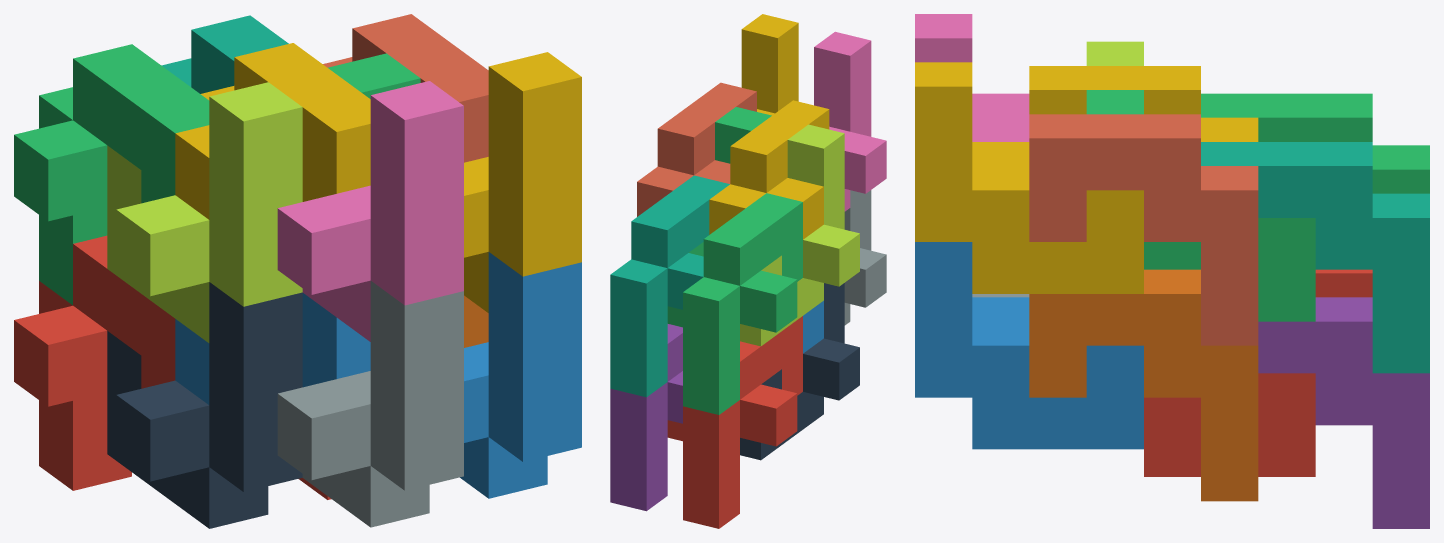
The model's file is tiling.obj.
3 renders of one model, left to right at view 1: azimuth 30°, elevation 25°; view 2: azimuth 150°, elevation 25°; view 3: azimuth 270°, elevation 25°, orthographic. The views are drawn at different scales.
Parts seen in each view (by area): view 1: copy_2_domain_1, copy_2_domain_2, copy_2_domain_3, copy_2_domain_4, copy_1_domain_3, copy_2_domain_6, copy_2_domain_8, copy_1_domain_1, copy_1_domain_4, copy_1_domain_8, copy_1_domain_2, copy_1_domain_7 (+2 smaller); view 2: copy_1_domain_3, copy_1_domain_7, copy_1_domain_1, copy_2_domain_3, copy_1_domain_5, copy_1_domain_4, copy_2_domain_4, copy_1_domain_8, copy_2_domain_1, copy_2_domain_8, copy_2_domain_2, copy_2_domain_7 (+1 smaller); view 3: copy_1_domain_8, copy_2_domain_8, copy_2_domain_6, copy_1_domain_6, copy_1_domain_7, copy_1_domain_5, copy_2_domain_5, copy_1_domain_3, copy_2_domain_7, copy_1_domain_4, copy_2_domain_4, copy_1_domain_1 (+1 smaller).
Part boxes in pixels (x1,y1,x2,y2): copy_2_domain_1: [107, 282, 302, 528]; copy_2_domain_2: [277, 281, 463, 527]; copy_2_domain_3: [107, 82, 302, 342]; copy_2_domain_4: [277, 81, 463, 341]; copy_1_domain_3: [14, 44, 209, 305]; copy_2_domain_6: [460, 252, 581, 498]; copy_2_domain_8: [464, 52, 581, 312]; copy_1_domain_1: [14, 235, 175, 490]; copy_1_domain_4: [175, 43, 370, 219]; copy_1_domain_8: [323, 14, 488, 162]; copy_1_domain_2: [175, 293, 370, 404]; copy_1_domain_7: [161, 15, 288, 93]; copy_1_domain_3: [683, 193, 802, 414]; copy_1_domain_7: [610, 175, 729, 397]; copy_1_domain_1: [683, 316, 802, 528]; copy_2_domain_3: [740, 124, 859, 346]; copy_1_domain_5: [610, 324, 682, 511]; copy_1_domain_4: [709, 100, 829, 239]; copy_2_domain_4: [814, 31, 886, 211]; copy_1_domain_8: [637, 82, 756, 216]; copy_2_domain_1: [740, 283, 859, 460]; copy_2_domain_8: [741, 14, 798, 115]; copy_2_domain_2: [844, 190, 886, 325]; copy_2_domain_7: [667, 107, 771, 327]; copy_1_domain_8: [1029, 114, 1258, 345]; copy_2_domain_8: [915, 62, 1143, 293]; copy_2_domain_6: [915, 242, 1143, 449]; copy_1_domain_6: [1029, 269, 1258, 501]; copy_1_domain_7: [1201, 142, 1429, 373]; copy_1_domain_5: [1258, 297, 1429, 528]; copy_2_domain_5: [1144, 373, 1315, 476]; copy_1_domain_3: [1201, 93, 1429, 193]; copy_2_domain_7: [1086, 90, 1315, 321]; copy_1_domain_4: [1029, 66, 1258, 141]; copy_2_domain_4: [915, 14, 1029, 141]; copy_1_domain_1: [1315, 269, 1372, 297].
Size of the model in its own units: 5 by 9 by 9.
